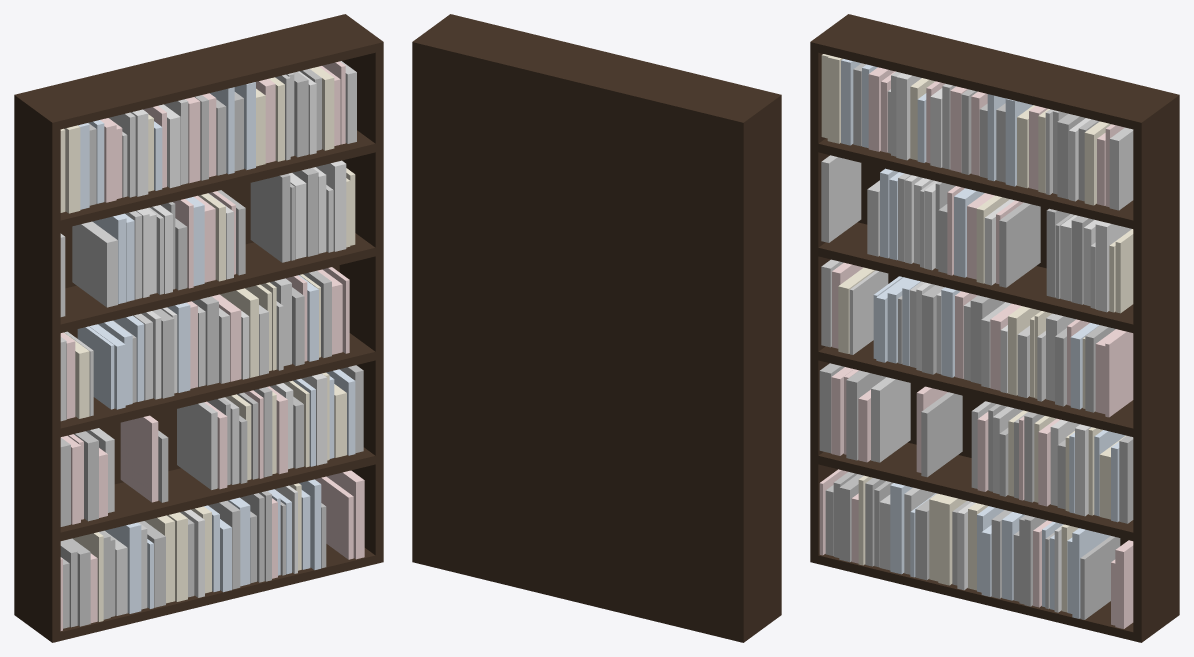
The model's file is office-shelf.glb.
The picture shows the model from 3 angles, left to right: view 1: azimuth 30°, elevation 25°; view 2: azimuth 150°, elevation 25°; view 3: azimuth 330°, elevation 25°; orthographic projection.
Bounding box in the file's own units: 2 × 3 × 0.4.
